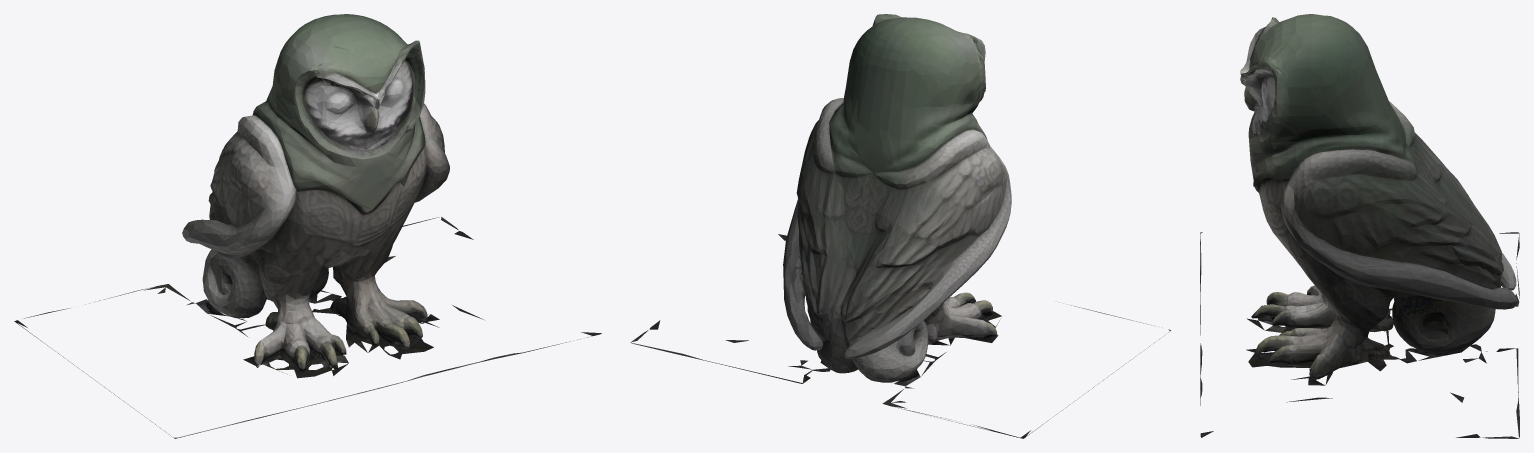
The model's file is nightveil__hushedOwl.glb.
The picture shows the model from 3 angles, left to right: view 1: azimuth 30°, elevation 25°; view 2: azimuth 150°, elevation 25°; view 3: azimuth 270°, elevation 25°; orthographic projection. The views are drawn at different scales.
Visible parts, largest first — view 1: world; view 2: world; view 3: world.
Boxes of the visible parts, x1,y1,x2,y2 form: world: (14, 14, 601, 438); world: (630, 14, 1170, 438); world: (1200, 14, 1519, 438).
Bounding box in the file's own units: 1 × 0.7304 × 0.6548.
1 material, 1 textured.
